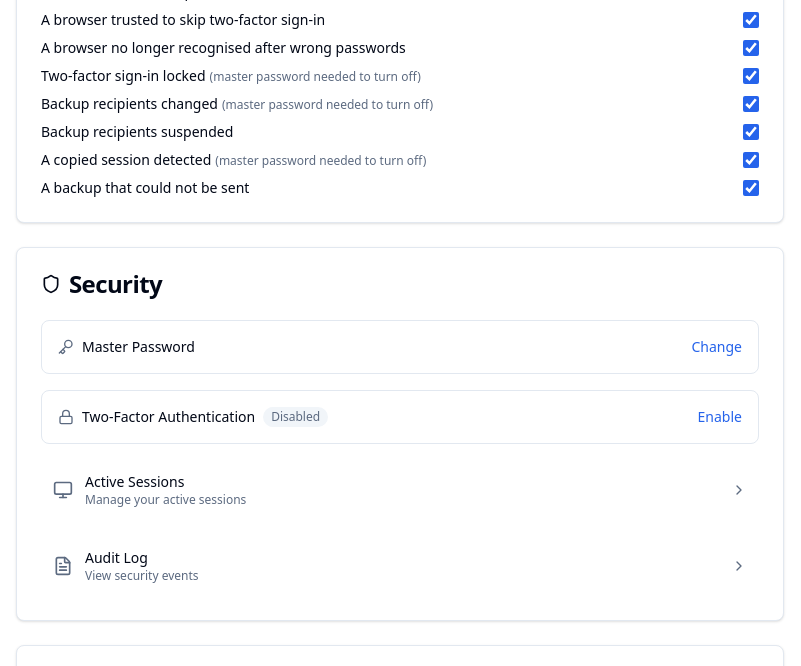
SettingsPage › shows password strength indicator when new password is typed
(page scrolled)
Expected: the text "Master Password" is shown, [82,337,195,357]
Click the button "Change": (717, 347) [692,337,742,357]
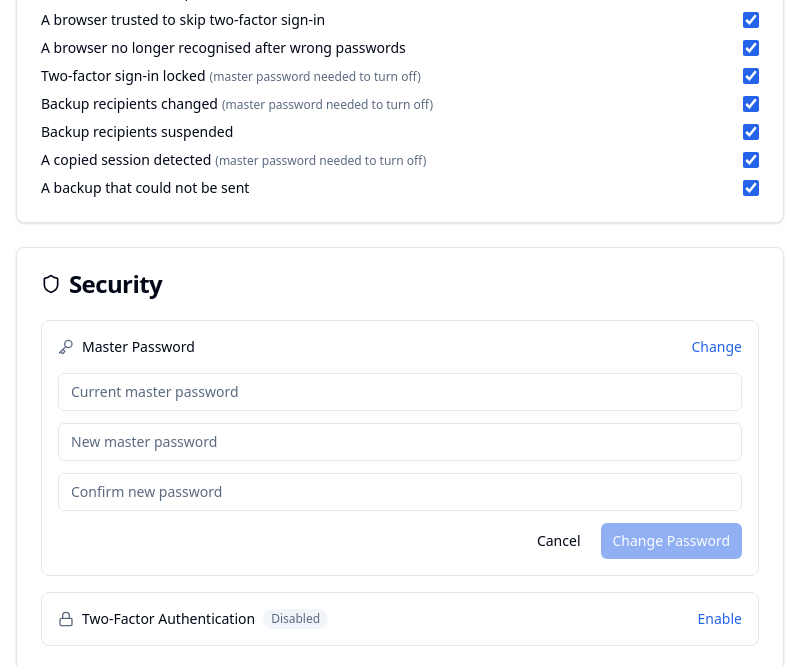
In the password field with placeholder "New master password": (400, 442) [58,423,742,461], type "StrongPassword1!"
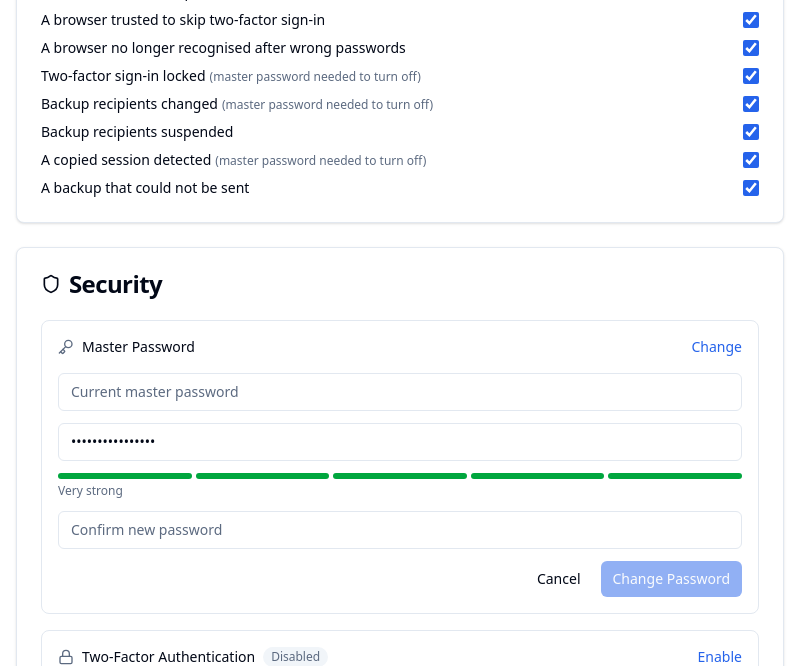
Result: the text "Very strong" is shown at [58,482,123,499]
